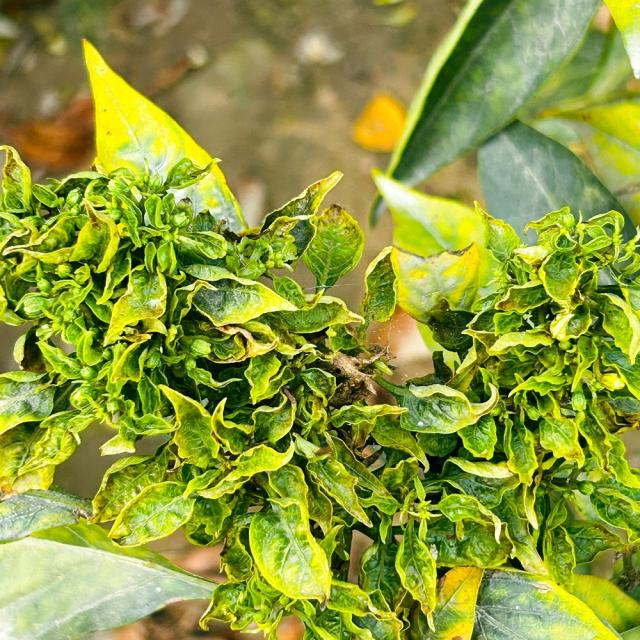Chilli_Leaf_Curl: (1, 27, 638, 638), (367, 170, 638, 637), (368, 0, 638, 243), (80, 37, 248, 235)
